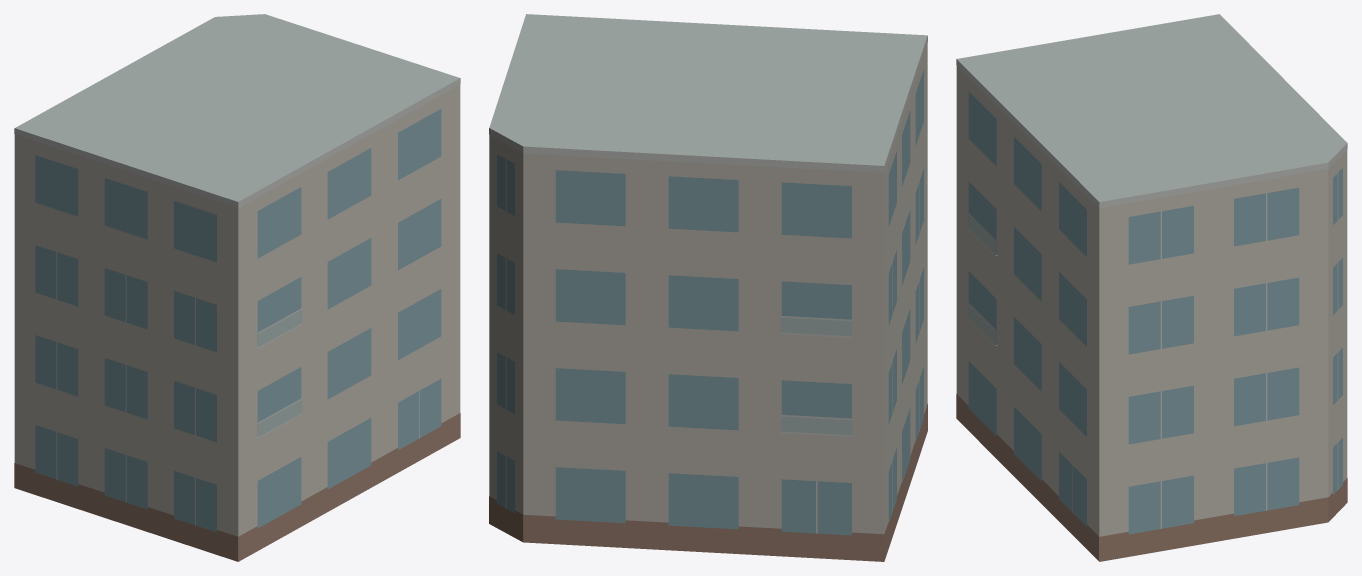
The model's file is survey-upis-32851333.glb.
3 renders of one model, left to right at view 1: azimuth 30°, elevation 25°; view 2: azimuth 150°, elevation 25°; view 3: azimuth 270°, elevation 25°, orthographic. The views are drawn at different scales.
Parts seen in each view (by area): view 1: survey-upis-32851333.tmp; view 2: survey-upis-32851333.tmp; view 3: survey-upis-32851333.tmp.
Part boxes in pixels (left/top/right/bottom): survey-upis-32851333.tmp: left=14, top=14, right=460, bottom=561; survey-upis-32851333.tmp: left=489, top=14, right=927, bottom=561; survey-upis-32851333.tmp: left=956, top=14, right=1347, bottom=561.
Bounding box in the file's own units: 15.71 × 14 × 13.79.
